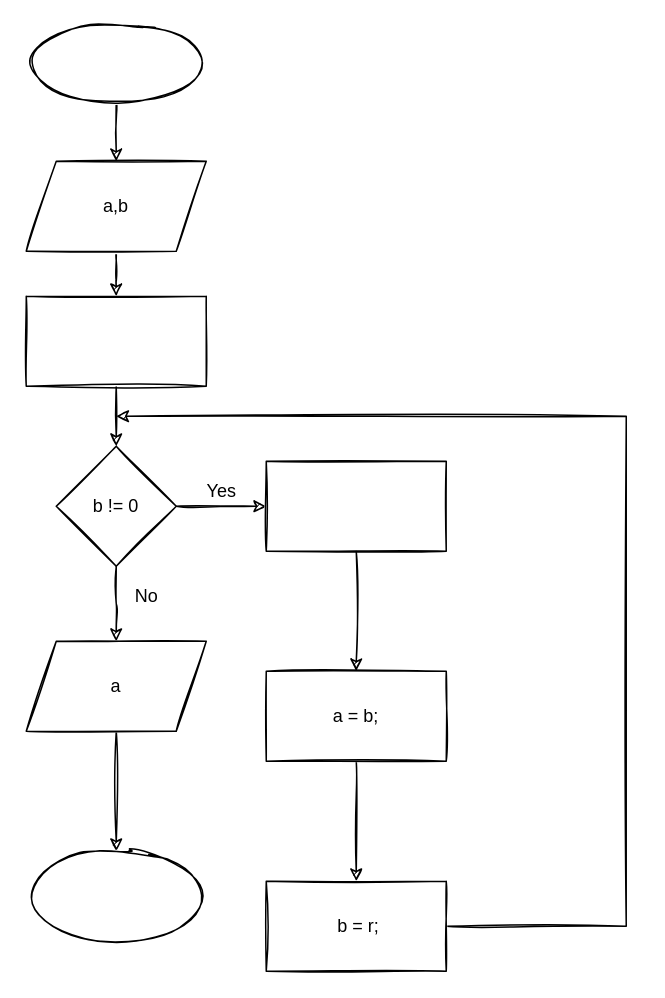
The diagram is 665 pixels wide and 998 high, and some of its shapes have lost their labels. Here are the shapes that lost their labels. From the top down, the centre of each, then its label:
At [115,340]: "r = 0".
At [355,505]: "r = a % b;".
